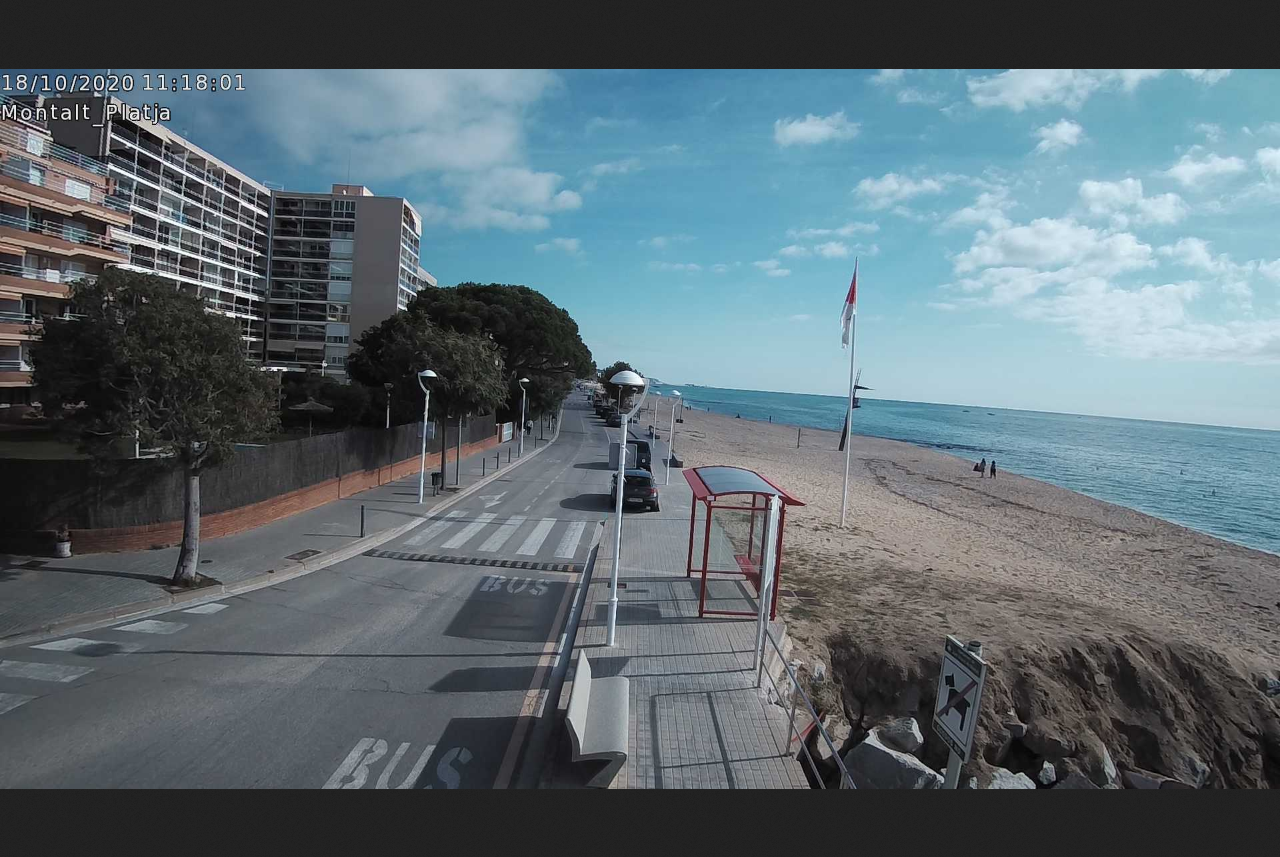no: (837, 266, 855, 349)
